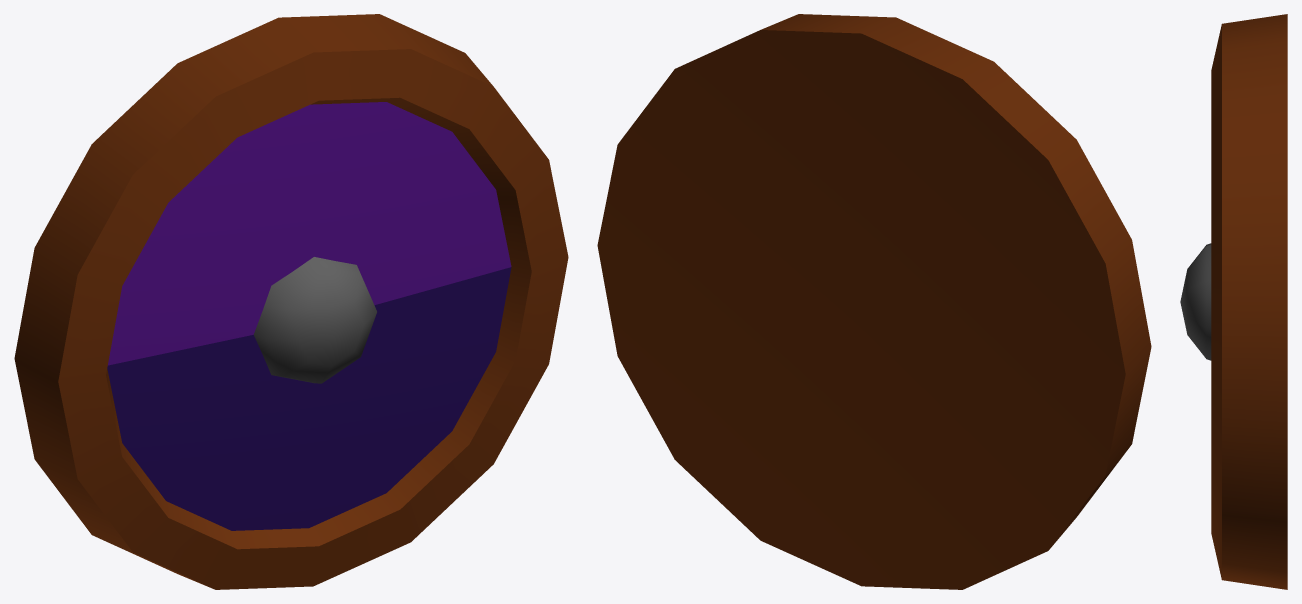
Rendered from SkeletonShieldMesh.glb.
3 views of the same model, side by side, from view 1: azimuth 30°, elevation 25°; view 2: azimuth 150°, elevation 25°; view 3: azimuth 270°, elevation 25° (orthographic). The views are drawn at different scales.
Visible parts, largest first — view 1: Shield; view 2: Shield; view 3: Shield.
Boxes of the visible parts, box(x1,y1,x2,y2) form: Shield: box(14, 14, 568, 589); Shield: box(597, 14, 1151, 589); Shield: box(1180, 14, 1287, 589).
Size of the model in its own units: 0.8438 by 0.8438 by 0.157.
1 material, 1 textured.
